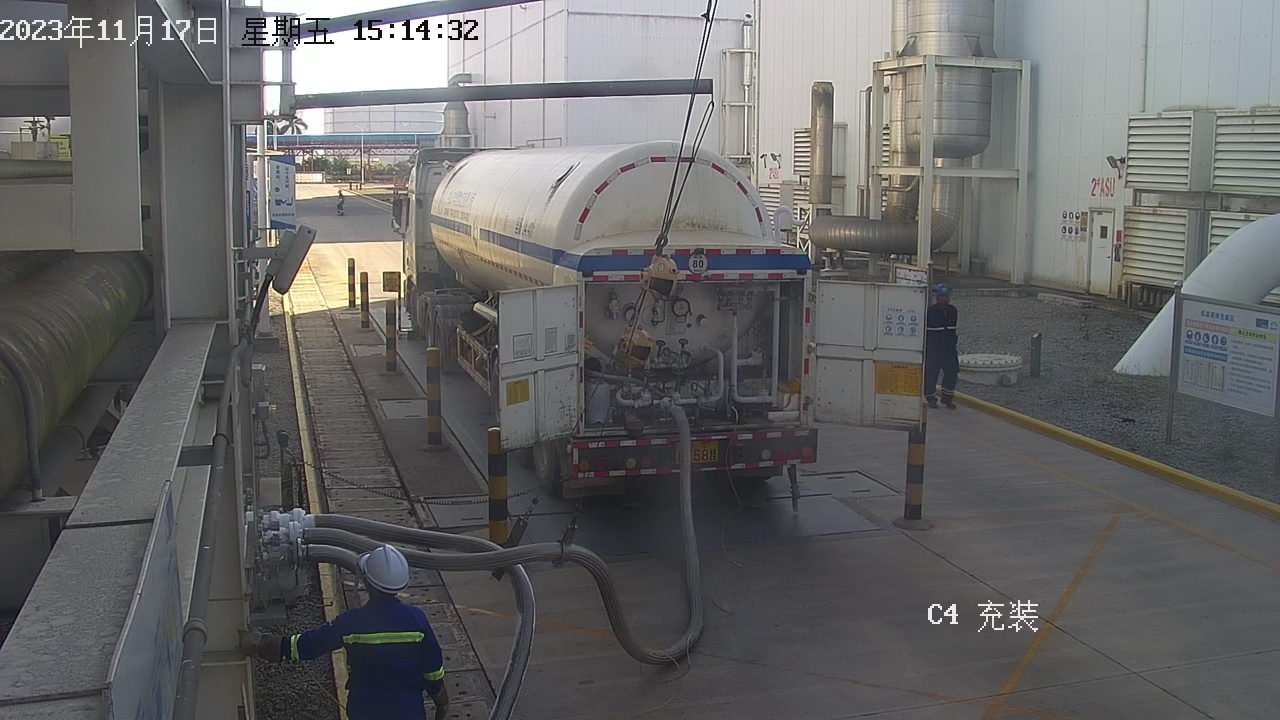Head_with_Helmet: (319, 528, 432, 606), (924, 278, 959, 314), (334, 189, 344, 195)
Uniform: (276, 584, 476, 720), (911, 304, 981, 417), (328, 193, 352, 219)
